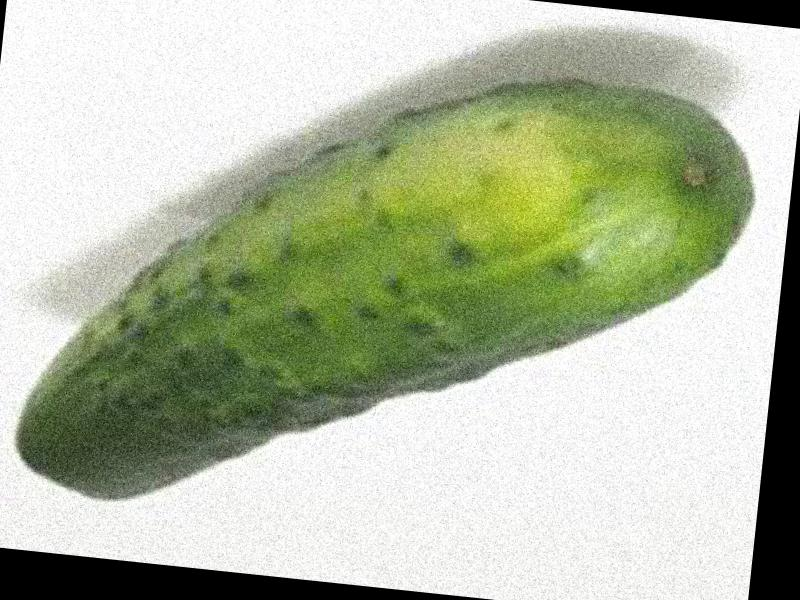Cucumber: (9, 30, 758, 563)
